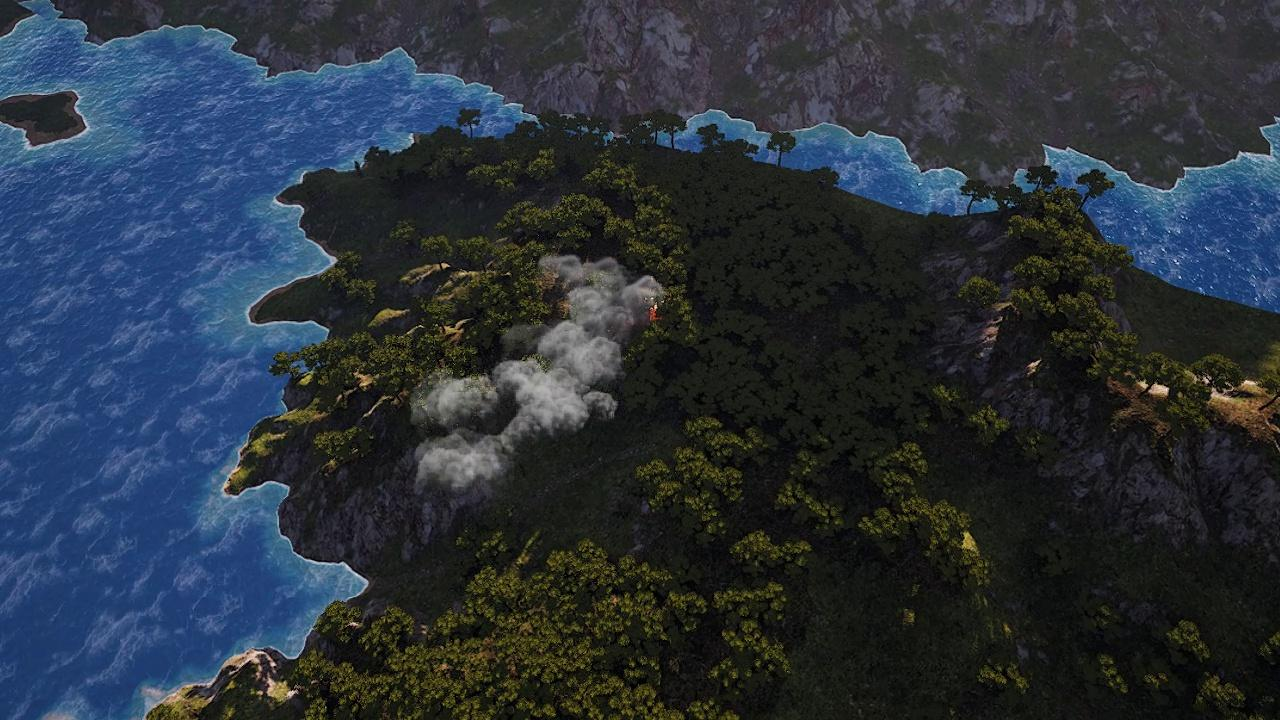fire: (653, 302, 667, 324)
smoke: (414, 252, 670, 494)
